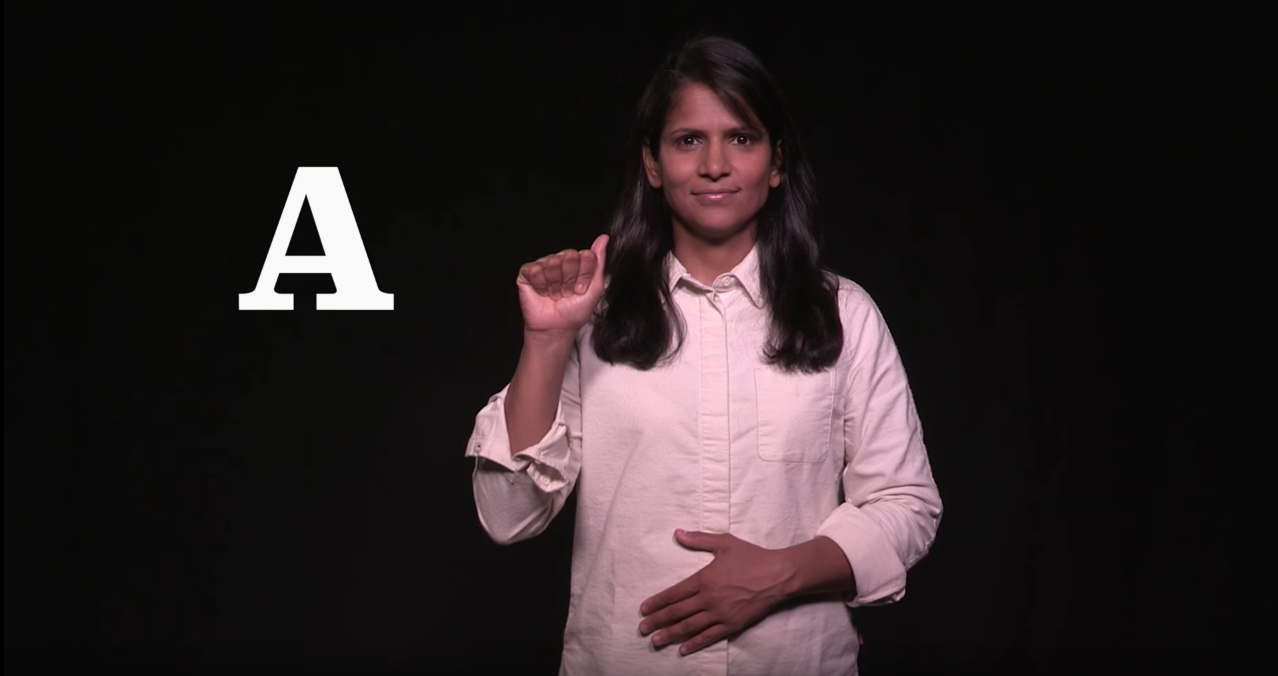a: (498, 221, 629, 343)
